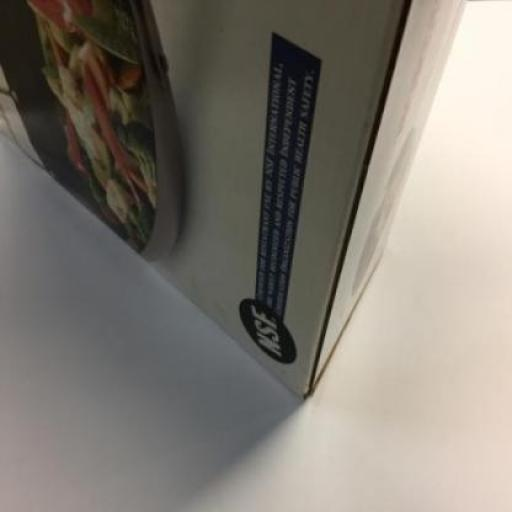cardboard: (0, 0, 465, 400)
